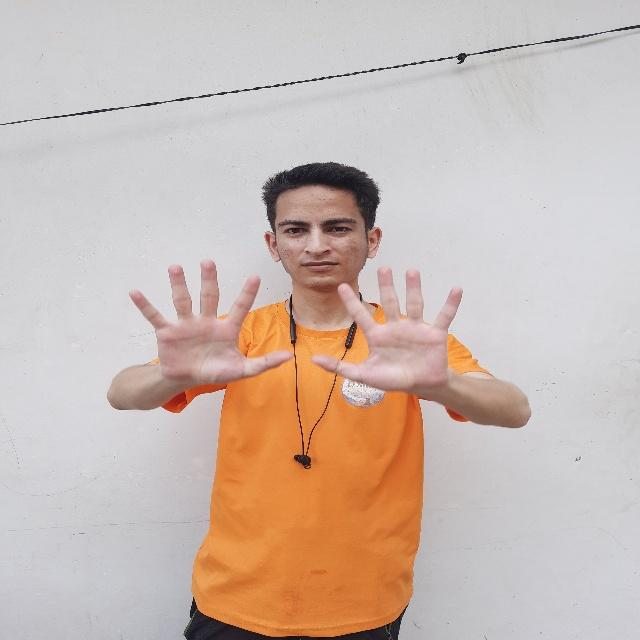Moutza: (308, 253, 476, 407), (122, 247, 296, 391)
